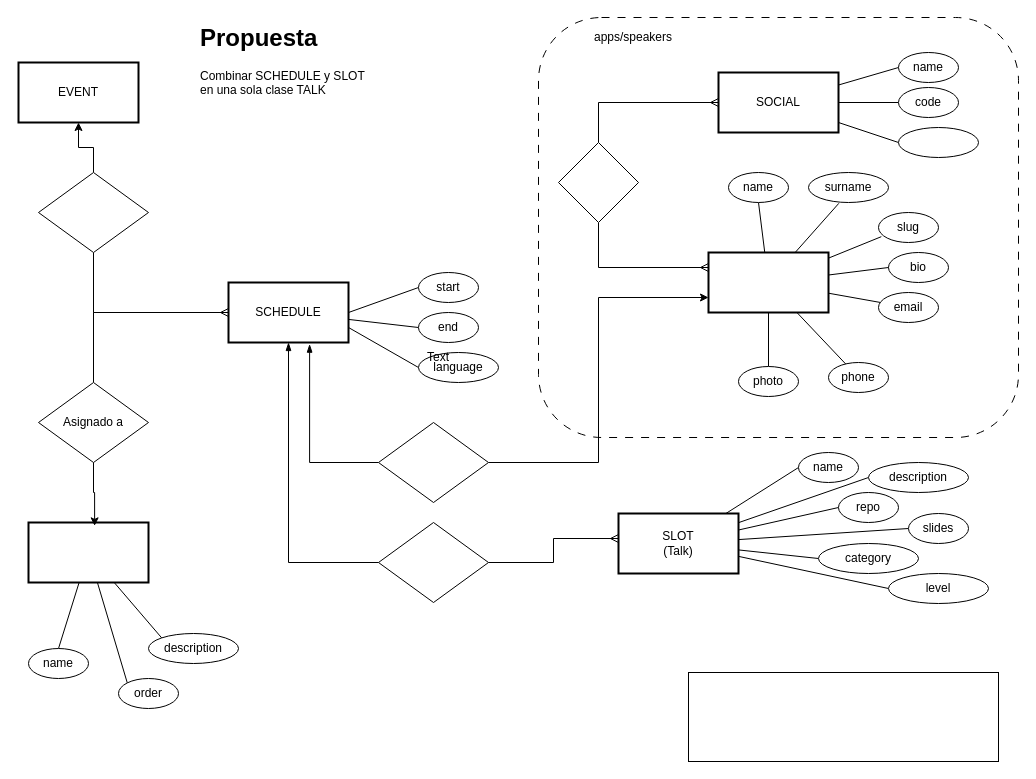
Image size: 1036x779. Some labels were removed from this diagram. The shapes that lost their labels are listed below. From the top down, each one's centre as x and y in pixels, then its label:
the point at 938,142: bse_url
the point at 598,182: tiene cuenta en
the point at 93,212: Compuesto de
the point at 768,282: SPEAKER
the point at 433,462: Autoria
the point at 88,552: TRACK
the point at 433,562: Asigado a
the point at 843,717: Python Canarias Web Events
